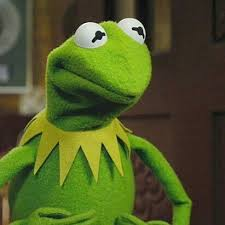kermit: (44, 17, 156, 131)
